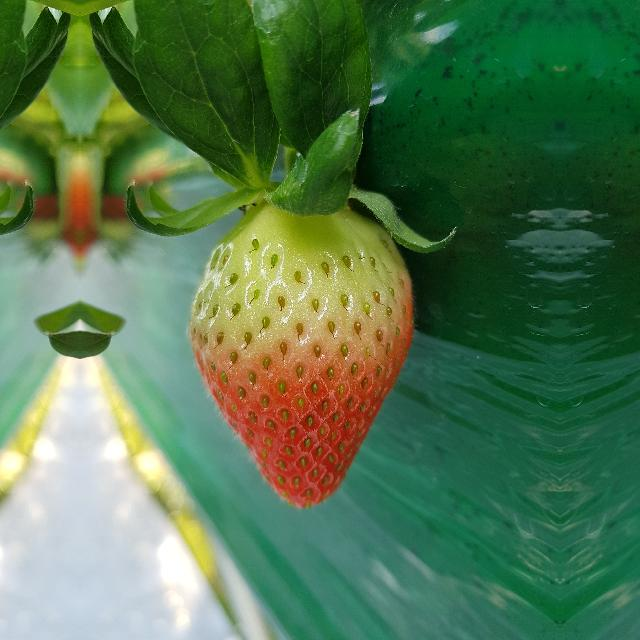Health_75: (185, 198, 417, 510)
